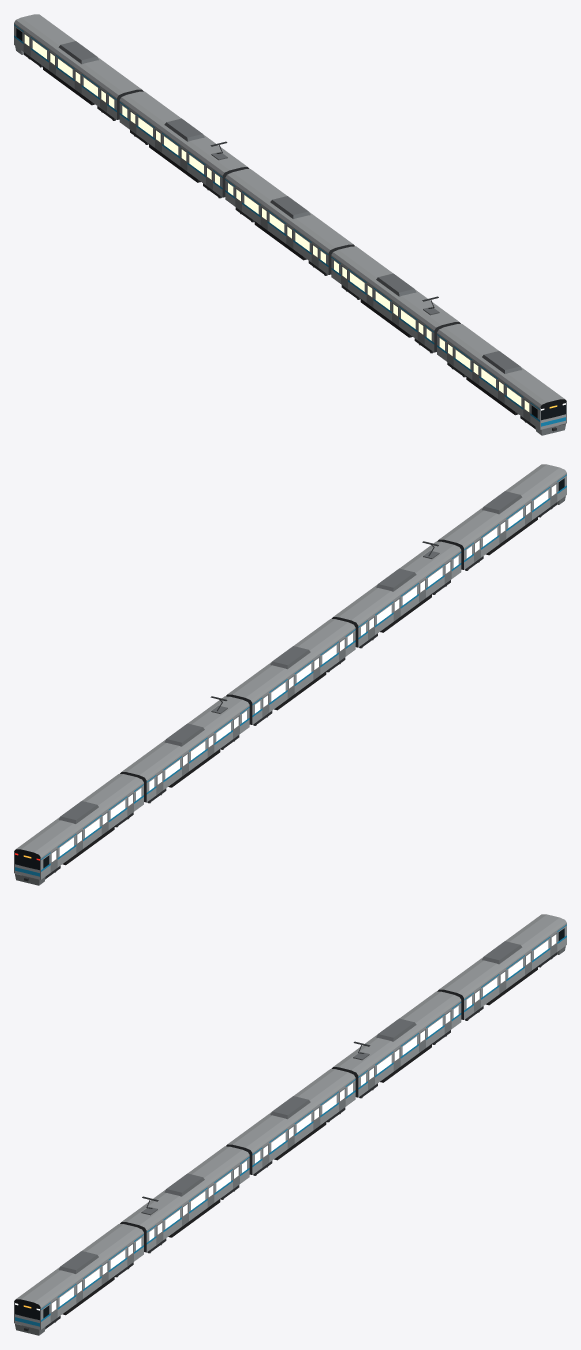
Rendered from tokyo_keihin_train.glb.
The picture shows the model from 3 angles, top to bottom: view 1: azimuth 30°, elevation 25°; view 2: azimuth 150°, elevation 25°; view 3: azimuth 330°, elevation 25°; orthographic projection.
Parts seen in each view (by area): view 1: tokyo_keihin_train; view 2: tokyo_keihin_train; view 3: tokyo_keihin_train.
Part boxes in pixels (<box>): tokyo_keihin_train: <box>14,14,566,435</box>; tokyo_keihin_train: <box>14,464,566,885</box>; tokyo_keihin_train: <box>14,914,566,1335</box>.
Bounding box in the file's own units: 2.95 × 4.9 × 100.
Materials: 1 (1 with a texture image).
